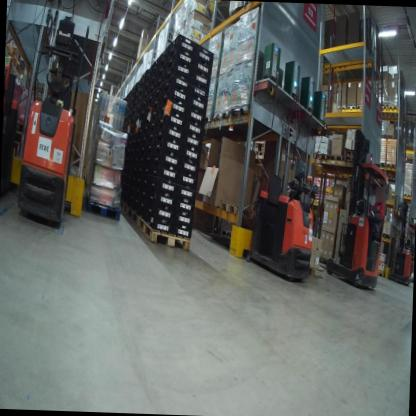forklift: (316, 123, 393, 295), (385, 196, 415, 289)
pallet: (135, 211, 192, 254), (76, 188, 127, 223), (216, 198, 261, 221), (228, 101, 258, 125), (211, 106, 234, 126), (386, 160, 401, 180), (125, 204, 137, 225), (387, 104, 401, 121), (376, 159, 389, 177), (317, 257, 332, 270), (379, 103, 390, 120), (330, 152, 343, 164), (119, 199, 128, 215), (312, 152, 330, 160), (343, 154, 357, 163), (343, 147, 356, 156), (379, 270, 387, 283), (346, 102, 357, 111), (337, 104, 348, 111), (402, 145, 414, 151), (402, 192, 413, 198), (356, 105, 368, 110), (204, 118, 210, 127)
pallet_truck: (21, 17, 91, 235), (248, 159, 320, 289), (2, 54, 30, 205)
